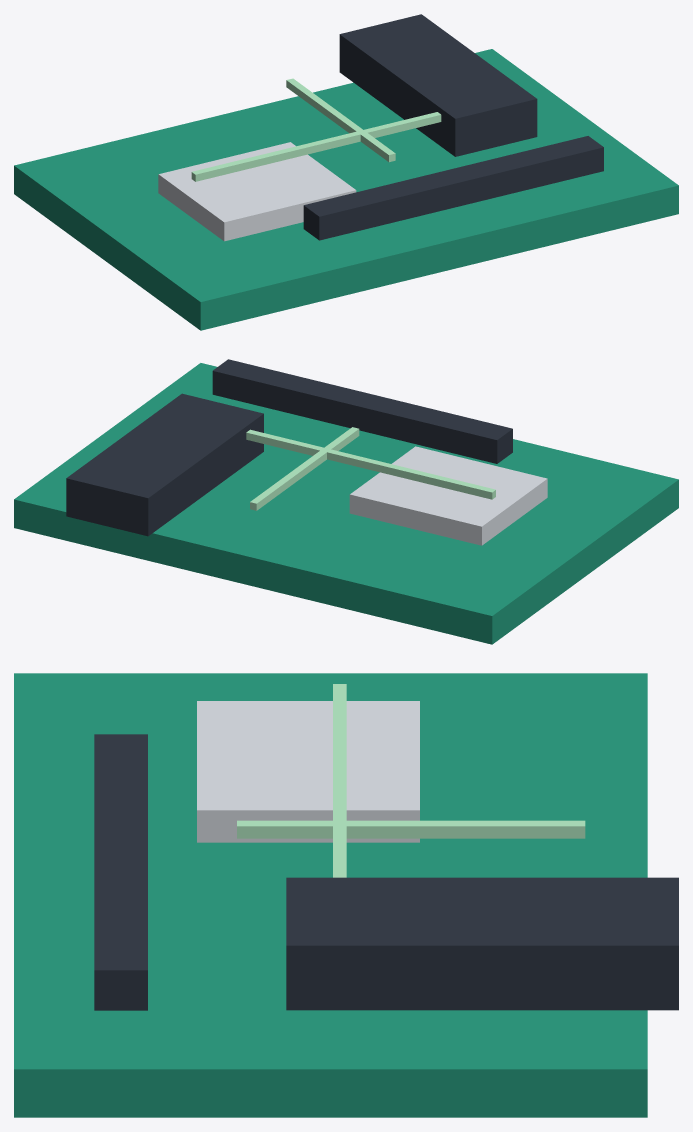
The model's file is motherboard.glb.
3 views of the same model, one above another, from view 1: azimuth 30°, elevation 25°; view 2: azimuth 150°, elevation 25°; view 3: azimuth 270°, elevation 25° (orthographic). The views are drawn at different scales.
Parts seen in each view (by area): view 1: motherboard, ram slots, gpu slot, cpu socket, circuit line 1, circuit line 2; view 2: motherboard, ram slots, gpu slot, cpu socket, circuit line 1, circuit line 2; view 3: motherboard, ram slots, cpu socket, gpu slot, circuit line 2, circuit line 1.
Boxes of the visible parts, left/top/right/bottom form: motherboard: left=14, top=49, right=678, bottom=330; ram slots: left=339, top=14, right=537, bottom=156; gpu slot: left=303, top=136, right=603, bottom=240; cpu socket: left=158, top=142, right=356, bottom=241; circuit line 1: left=191, top=112, right=441, bottom=181; circuit line 2: left=286, top=78, right=395, bottom=162; motherboard: left=14, top=363, right=678, bottom=644; ram slots: left=66, top=393, right=263, bottom=536; gpu slot: left=212, top=359, right=512, bottom=463; cpu socket: left=349, top=446, right=547, bottom=545; circuit line 1: left=246, top=429, right=495, bottom=499; circuit line 2: left=250, top=427, right=359, bottom=510; motherboard: left=14, top=673, right=647, bottom=1117; ram slots: left=286, top=877, right=678, bottom=1010; cpu socket: left=197, top=701, right=419, bottom=842; gpu slot: left=94, top=734, right=147, bottom=1010; circuit line 2: left=237, top=820, right=585, bottom=838; circuit line 1: left=333, top=684, right=346, bottom=877.
Bounding box in the file's own units: 2.1 × 0.3 × 1.49.
